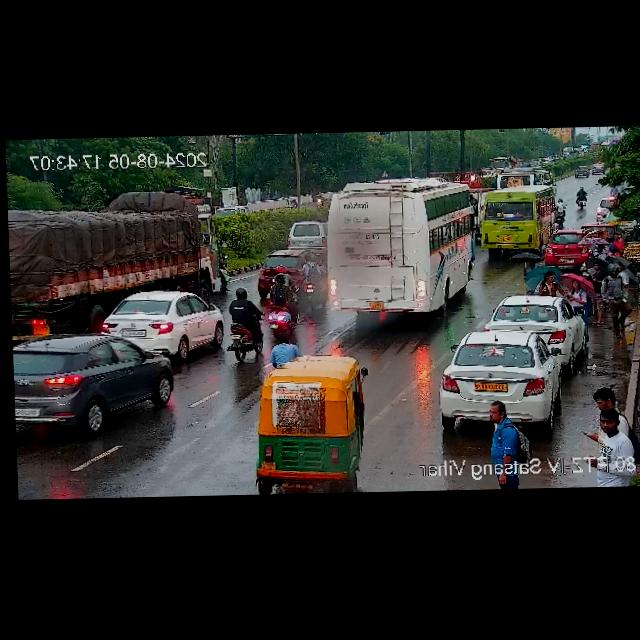bus: (322, 172, 483, 325), (468, 179, 563, 255), (495, 169, 557, 194), (486, 155, 517, 175)
car: (13, 329, 183, 433), (249, 348, 369, 495), (442, 332, 571, 424), (94, 290, 226, 357), (487, 294, 585, 352), (252, 247, 313, 295), (543, 232, 592, 266), (282, 218, 326, 253), (204, 203, 256, 219), (572, 163, 590, 181)
motorcycle: (225, 286, 263, 360), (268, 276, 303, 336), (574, 187, 589, 212), (555, 198, 568, 225)
person: (587, 387, 640, 480), (484, 397, 532, 490), (598, 267, 633, 334), (566, 279, 591, 314), (531, 269, 560, 295)
truck: (8, 206, 228, 313)
